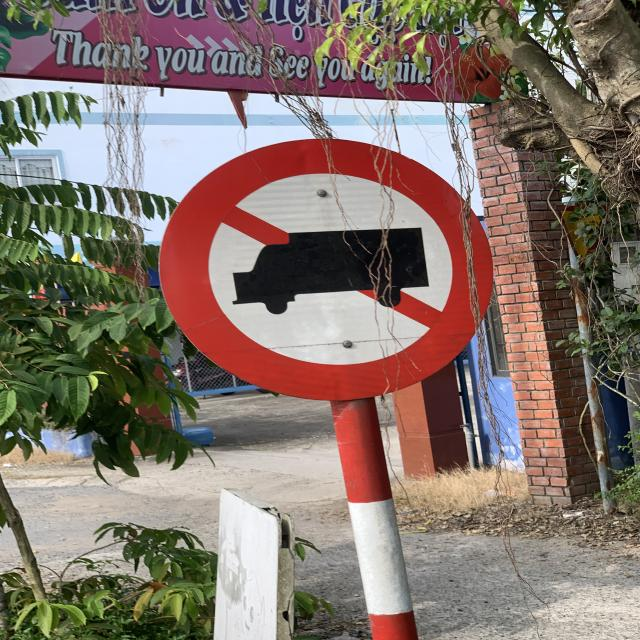Cam_Xe_Tai: (152, 138, 503, 398)
